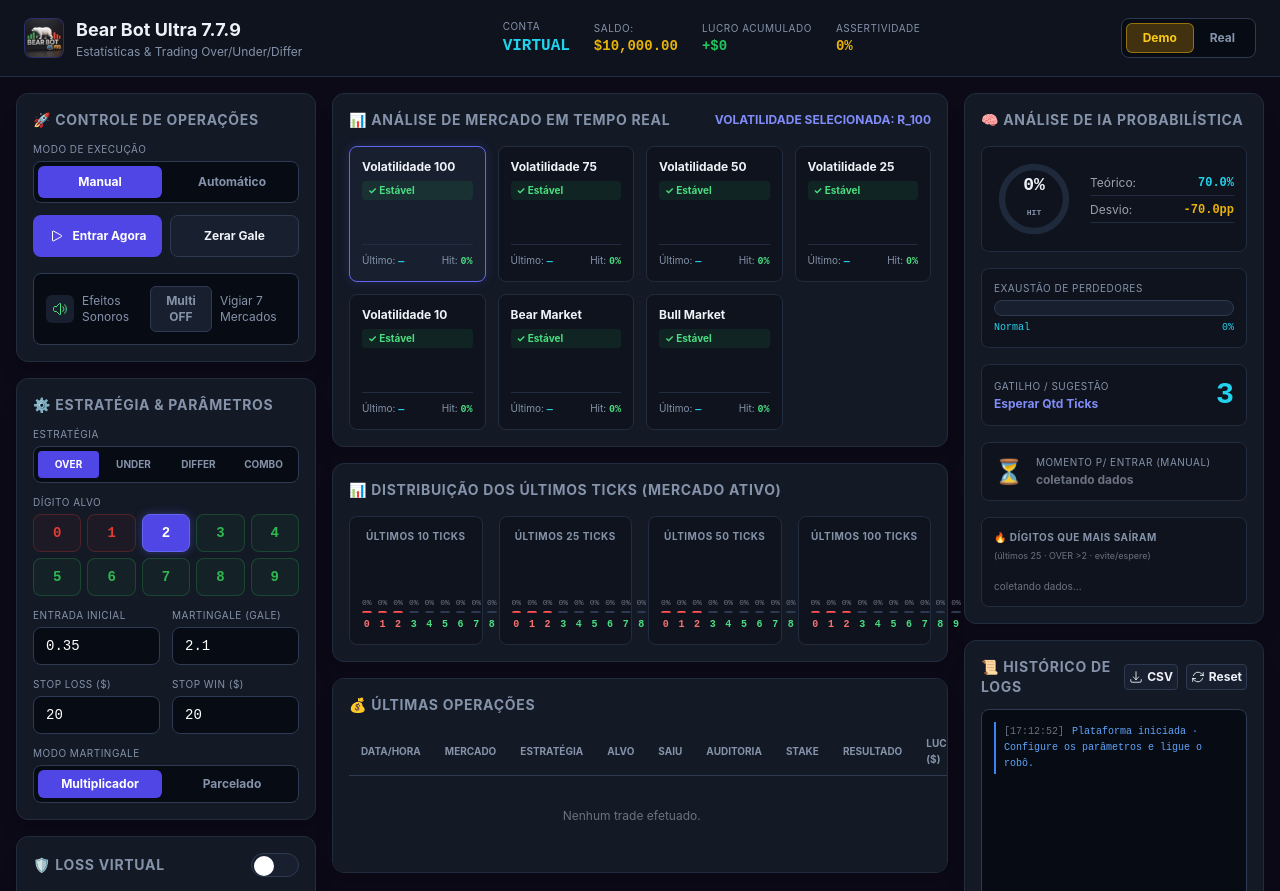
Test: BearBotUltra Component › deve zerar o loss virtual ao trocar de mercado no modo singular
The image size is (1280, 891).
# Ativar o Loss Virtual e setar modo consecutivo
Step 1. Click the button without text next to "🛡️ LOSS VIRTUAL" → (275, 865), box left=251, top=853, right=299, bottom=877
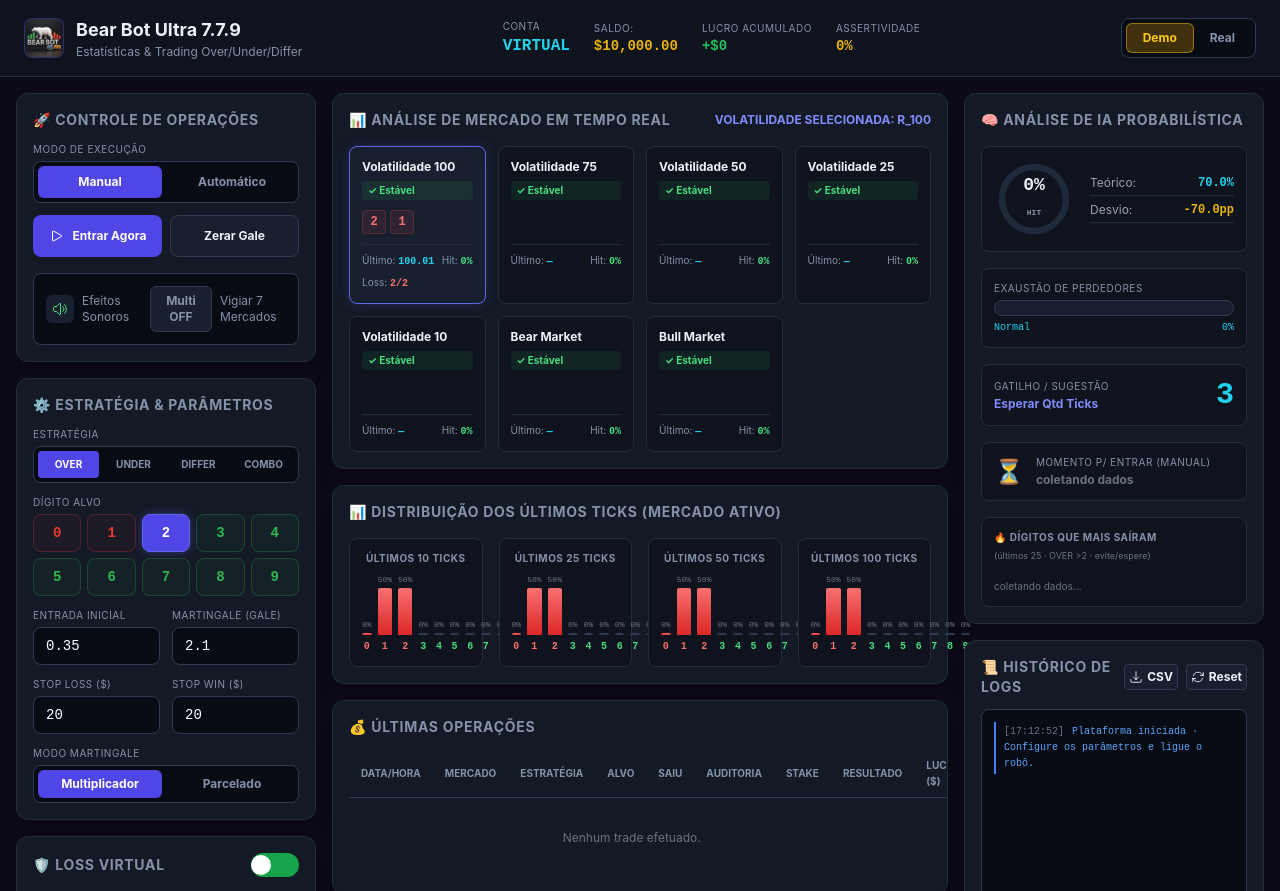
Now the text "2/2" is shown, box left=390, top=278, right=408, bottom=289
# Mudar de mercado para R_50
Step 2. Click the text "Volatilidade 50" → (703, 167), box left=659, top=159, right=747, bottom=175
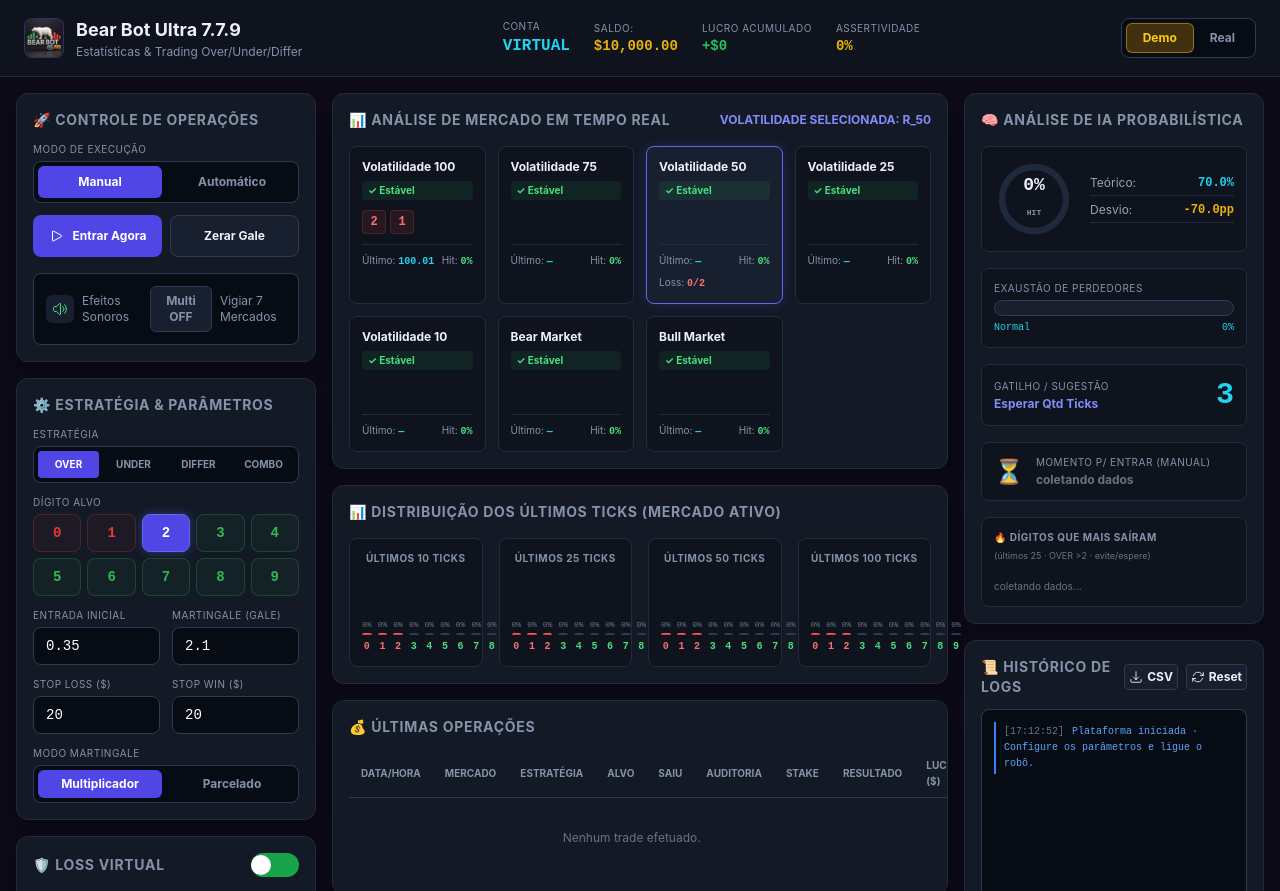
Now the text "0/2" is shown, box left=687, top=278, right=705, bottom=289
